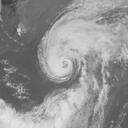cyclone: (39, 1, 122, 127)
